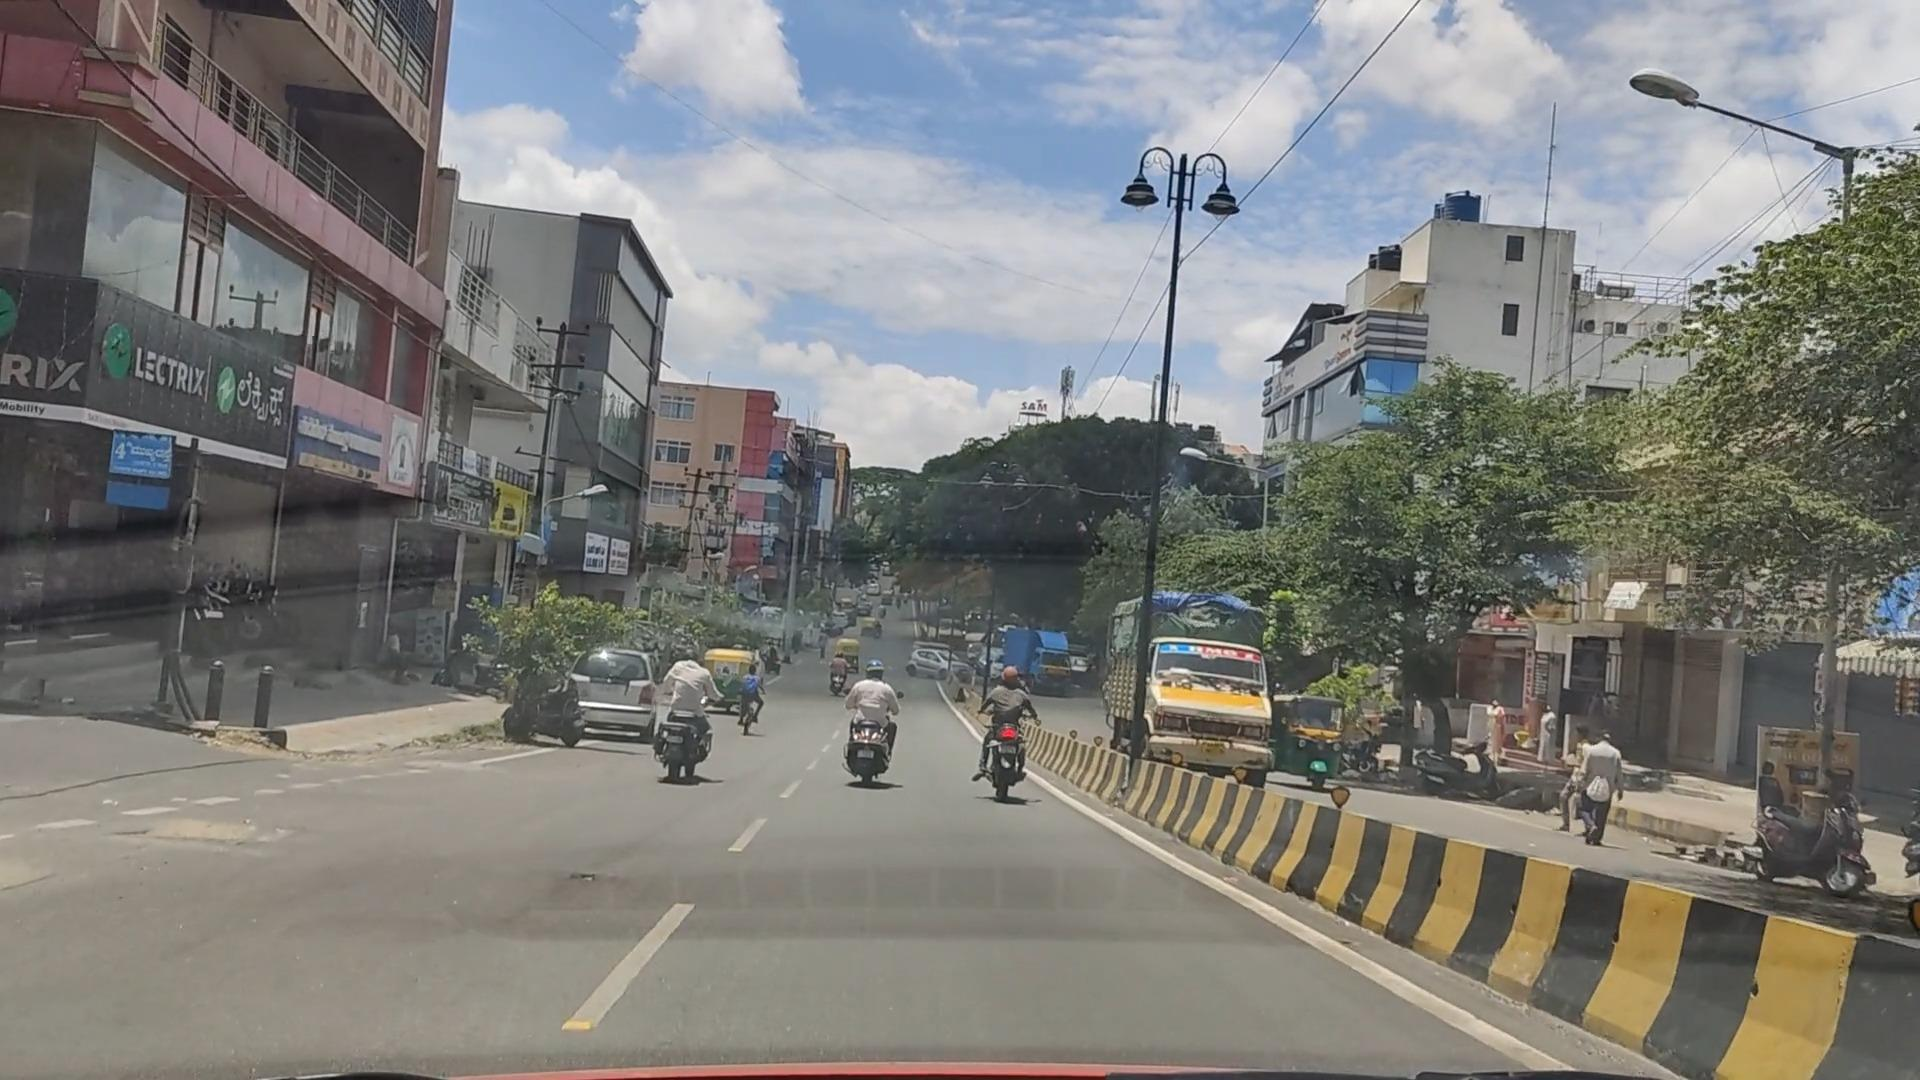LMV: (818, 633, 926, 800), (945, 663, 1043, 819), (653, 630, 713, 793)
RoadDamages: (91, 725, 291, 901)
